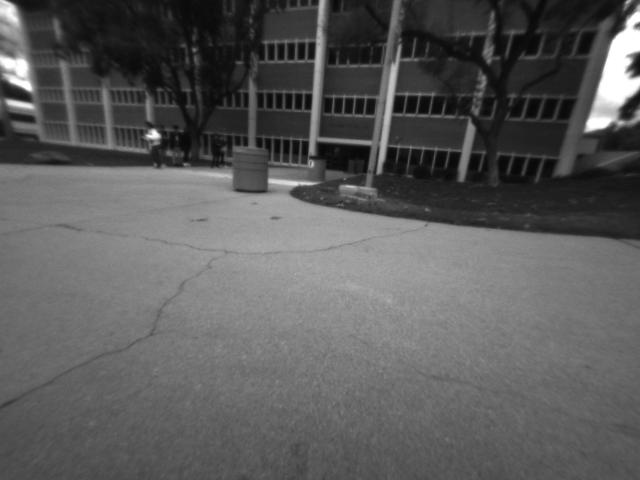trashcan: (224, 137, 273, 198), (302, 150, 329, 189)
